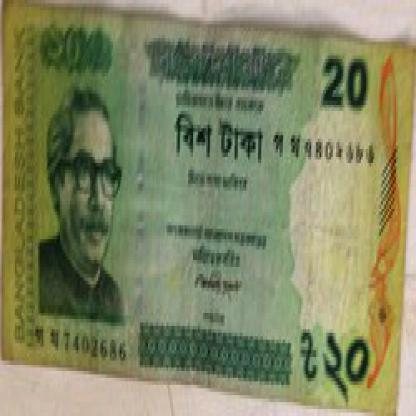Twenty: (298, 315, 376, 406), (38, 24, 125, 87), (165, 115, 270, 166), (318, 48, 373, 118)
